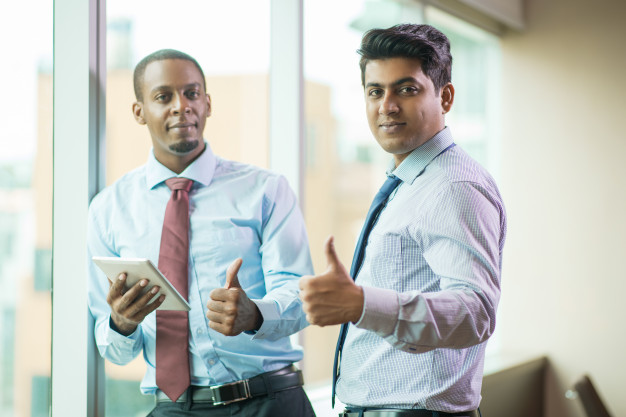thumbsup: (297, 235, 341, 326), (206, 257, 243, 336)
